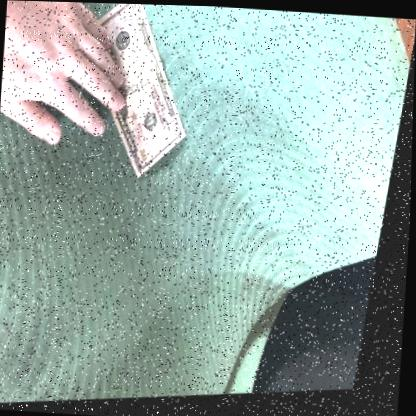dollar_front: (81, 3, 189, 183)
